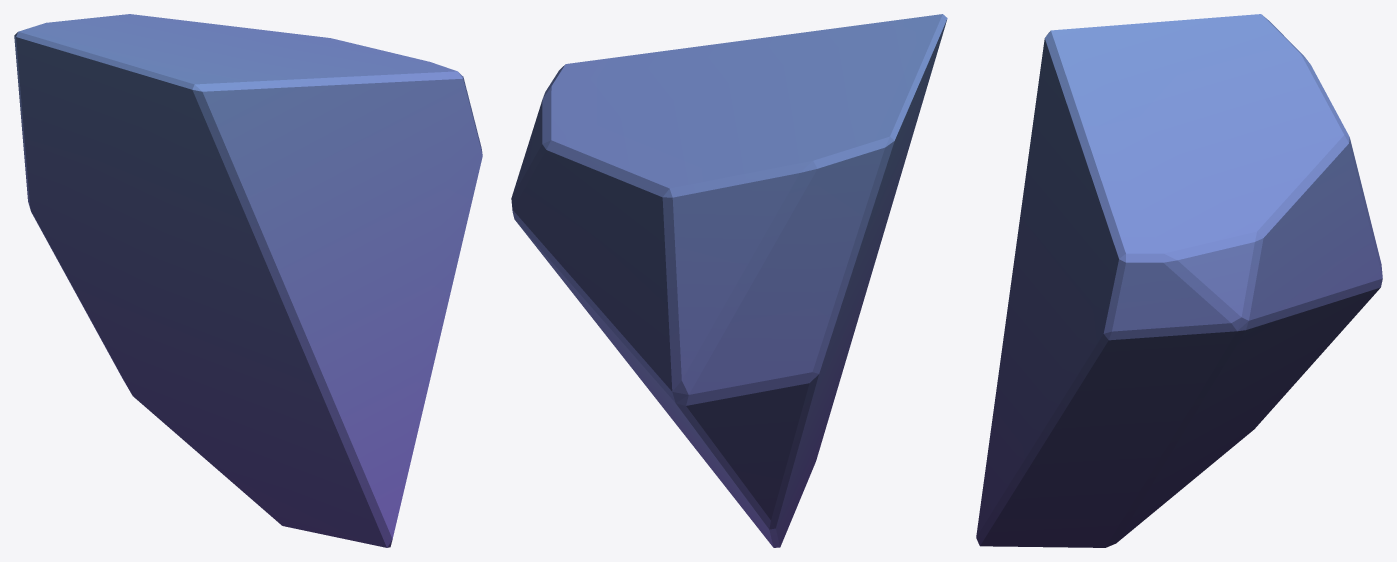
The model's file is cristal_estilhaco_5.fbx.
3 renders of one model, left to right at view 1: azimuth 30°, elevation 25°; view 2: azimuth 150°, elevation 25°; view 3: azimuth 270°, elevation 25°, orthographic. The views are drawn at different scales.
Visible parts, largest first — view 1: cristal_estilhaco_5; view 2: cristal_estilhaco_5; view 3: cristal_estilhaco_5.
Boxes of the visible parts, box(x1,y1,x2,y2) form: cristal_estilhaco_5: box(14, 14, 482, 547); cristal_estilhaco_5: box(511, 14, 947, 547); cristal_estilhaco_5: box(976, 14, 1382, 547).
Size of the model in its own units: 3.65 by 4.43 by 3.54.
